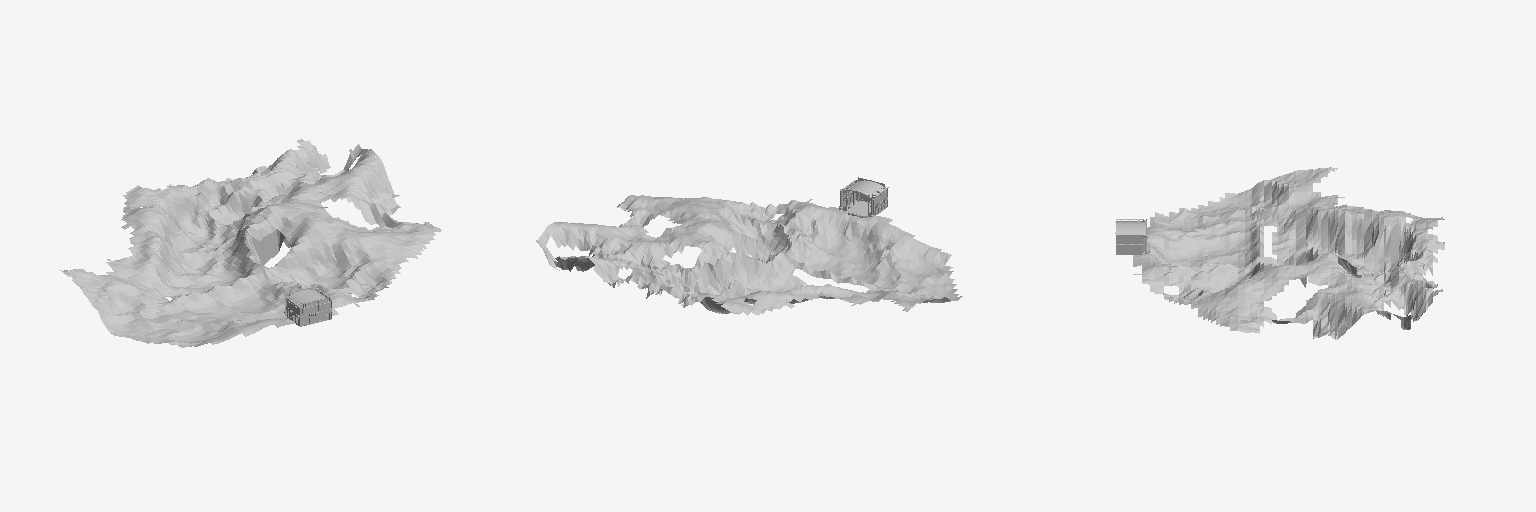
The model's file is lowpoly2.obj.
The picture shows the model from 3 angles: view 1: azimuth 30°, elevation 25°; view 2: azimuth 150°, elevation 25°; view 3: azimuth 270°, elevation 25°; orthographic projection.
Parts seen in each view (by area): view 1: Terrain_09_50000_Terrain_50000, camera2; view 2: Terrain_09_50000_Terrain_50000, camera2; view 3: Terrain_09_50000_Terrain_50000, camera2.
Boxes of the visible parts, x1=… form: Terrain_09_50000_Terrain_50000: x1=60, y1=139, x2=441, y2=347; camera2: x1=284, y1=287, x2=331, y2=326; Terrain_09_50000_Terrain_50000: x1=536, y1=195, x2=962, y2=315; camera2: x1=839, y1=177, x2=888, y2=218; Terrain_09_50000_Terrain_50000: x1=1133, y1=167, x2=1444, y2=339; camera2: x1=1115, y1=219, x2=1149, y2=254.
Bounding box in the file's own units: 1591 × 247 × 1353.